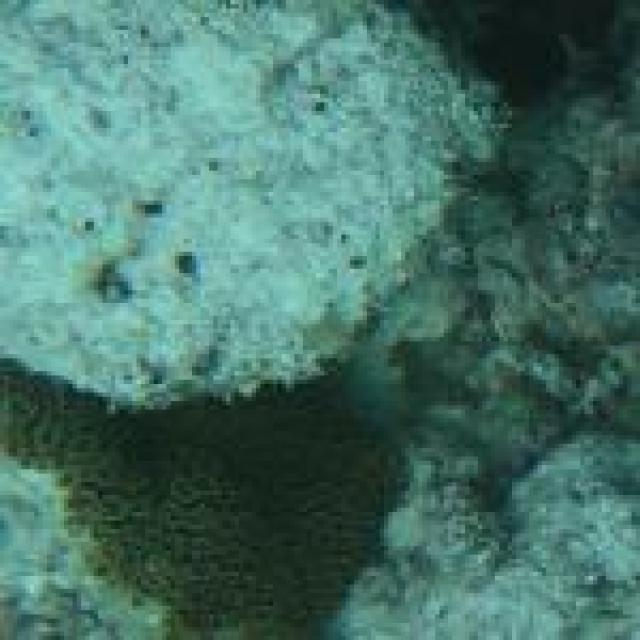Dead Coral: (0, 341, 413, 640)
